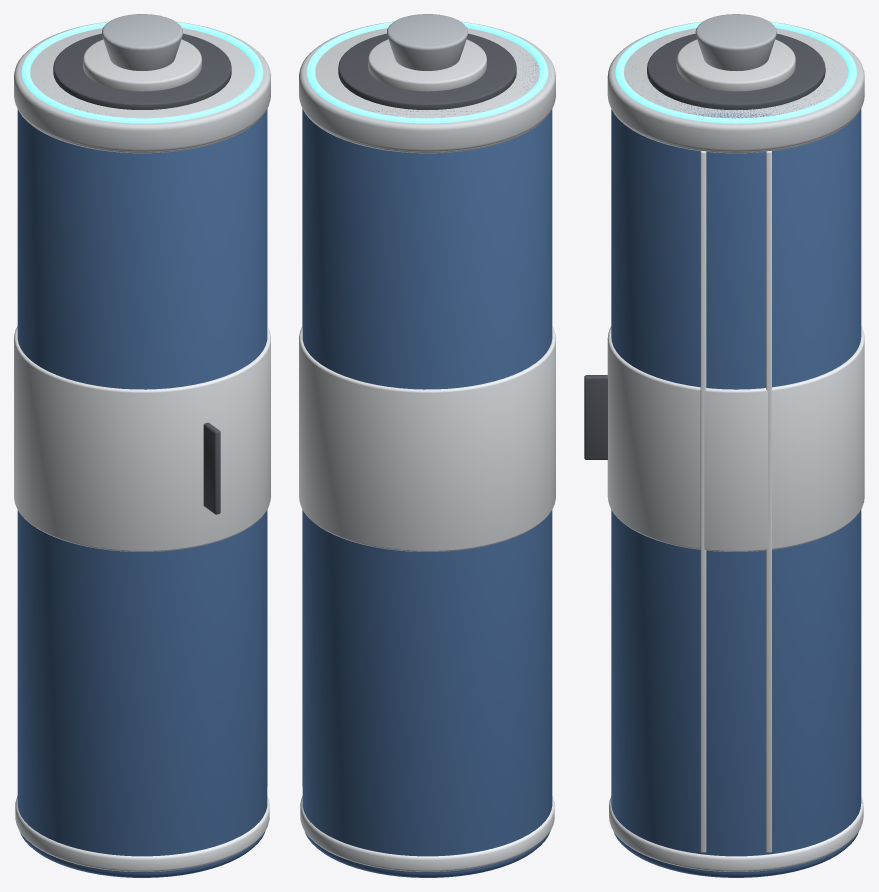
File: cell_v01.glb
3 views of the same model, side by side, from view 1: azimuth 30°, elevation 25°; view 2: azimuth 150°, elevation 25°; view 3: azimuth 270°, elevation 25° (orthographic).
Parts seen in each view (by area): view 1: cell_can, cell_label, cell_cap_ring, cell_insulator, cell_film_bottom, cell_positive, cell_vent, cell_cap_glow, cell_code_block, cell_film_top; view 2: cell_can, cell_label, cell_cap_ring, cell_insulator, cell_film_bottom, cell_positive, cell_vent, cell_cap_glow, cell_film_top; view 3: cell_can, cell_label, cell_cap_ring, cell_insulator, cell_seam_0, cell_film_bottom, cell_seam_1, cell_positive, cell_vent, cell_cap_glow, cell_code_block.
Part boxes in pixels (left/top/right/bottom): cell_can: left=17, top=108, right=267, bottom=877; cell_label: left=14, top=326, right=270, bottom=551; cell_cap_ring: left=14, top=21, right=270, bottom=151; cell_insulator: left=53, top=33, right=231, bottom=109; cell_film_bottom: left=15, top=796, right=269, bottom=871; cell_positive: left=102, top=14, right=182, bottom=70; cell_vent: left=83, top=39, right=201, bottom=91; cell_cap_glow: left=21, top=21, right=263, bottom=123; cell_code_block: left=203, top=422, right=220, bottom=514; cell_film_top: left=20, top=113, right=264, bottom=153; cell_can: left=302, top=55, right=552, bottom=877; cell_label: left=299, top=326, right=555, bottom=551; cell_cap_ring: left=299, top=21, right=555, bottom=151; cell_insulator: left=338, top=33, right=516, bottom=109; cell_film_bottom: left=300, top=796, right=554, bottom=871; cell_positive: left=387, top=14, right=467, bottom=70; cell_vent: left=368, top=39, right=486, bottom=91; cell_cap_glow: left=306, top=21, right=548, bottom=123; cell_film_top: left=305, top=113, right=549, bottom=153; cell_can: left=611, top=67, right=861, bottom=877; cell_label: left=607, top=326, right=864, bottom=551; cell_cap_ring: left=607, top=21, right=864, bottom=151; cell_insulator: left=647, top=33, right=825, bottom=109; cell_seam_0: left=700, top=151, right=706, bottom=852; cell_film_bottom: left=609, top=796, right=863, bottom=871; cell_seam_1: left=766, top=151, right=771, bottom=852; cell_positive: left=695, top=14, right=776, bottom=70; cell_vent: left=676, top=39, right=795, bottom=91; cell_cap_glow: left=615, top=22, right=856, bottom=123; cell_code_block: left=584, top=375, right=607, bottom=459.
Size of the model in its own units: 0.432 by 1.49 by 0.4715.
